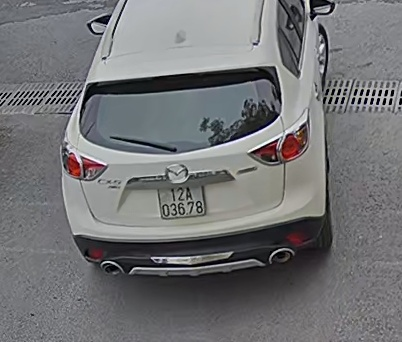vehicle plate: (155, 182, 209, 220)
